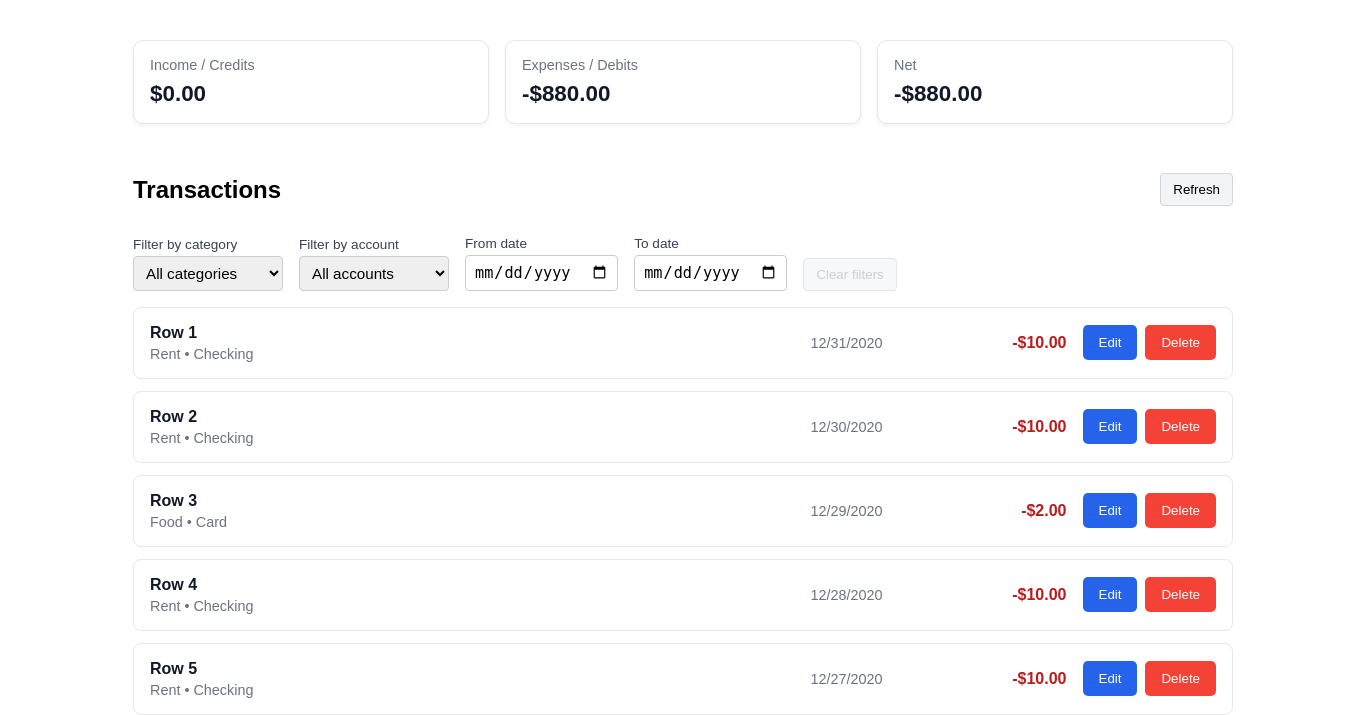
Test: filtering › explains a date the server refuses instead of showing an empty list
Type "20260-01-01" into the date field labelled "From date" at (542, 273), box [465,255,618,291]
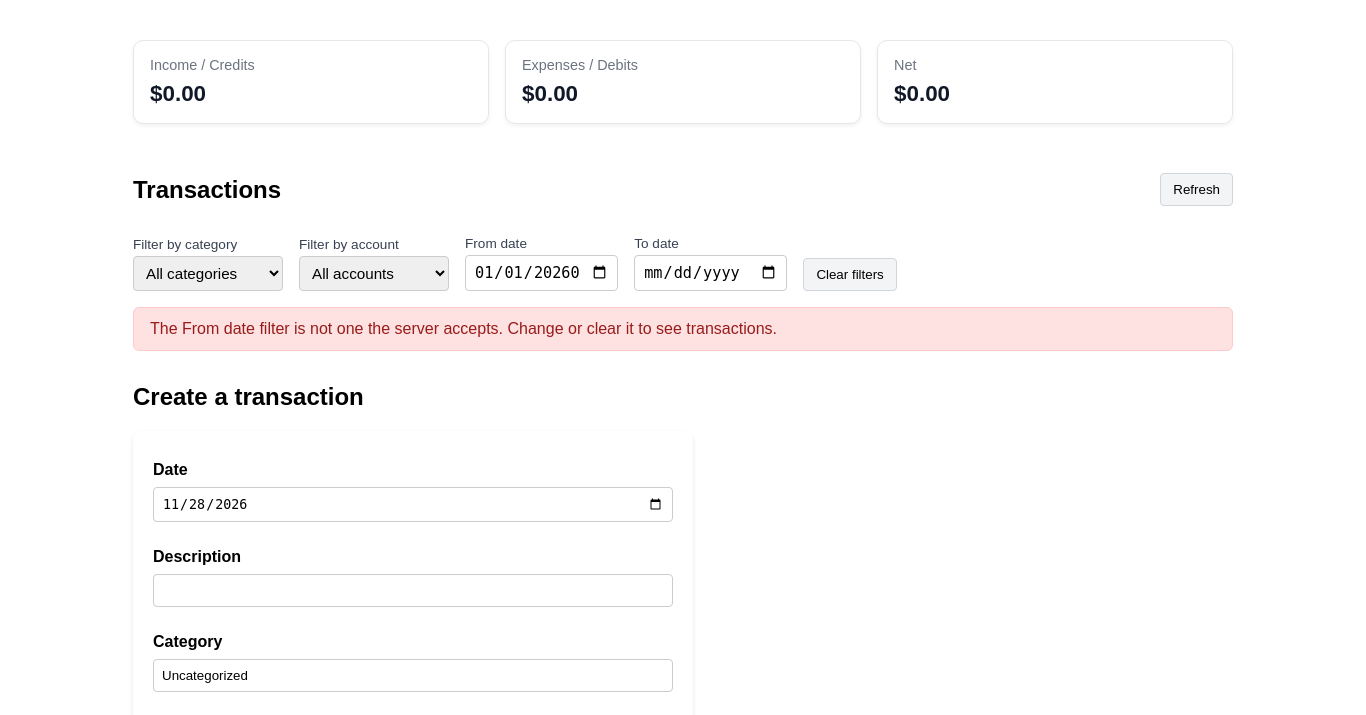
expect the message shows "The From date filter is not one the server accepts. Change or clear it to see transactions.": met, box [150,320,777,337]
Type "2020-12-30" into the date field labelled "From date" at (542, 273), box [465,255,618,291]
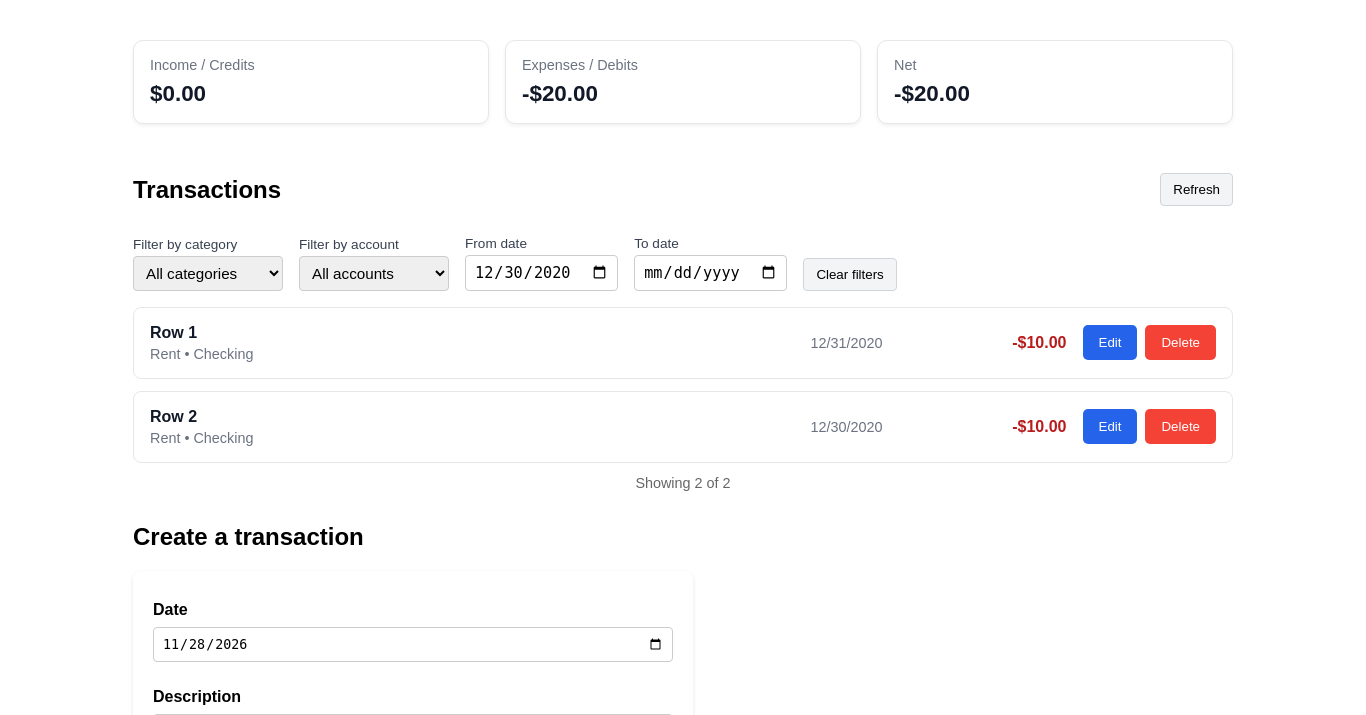
expect the text "Showing 2 of 2" is shown: met, box [635,475,731,491]
expect the message is gone: met
